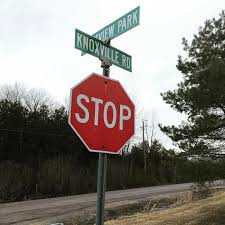sign_stop: (68, 72, 136, 154)
